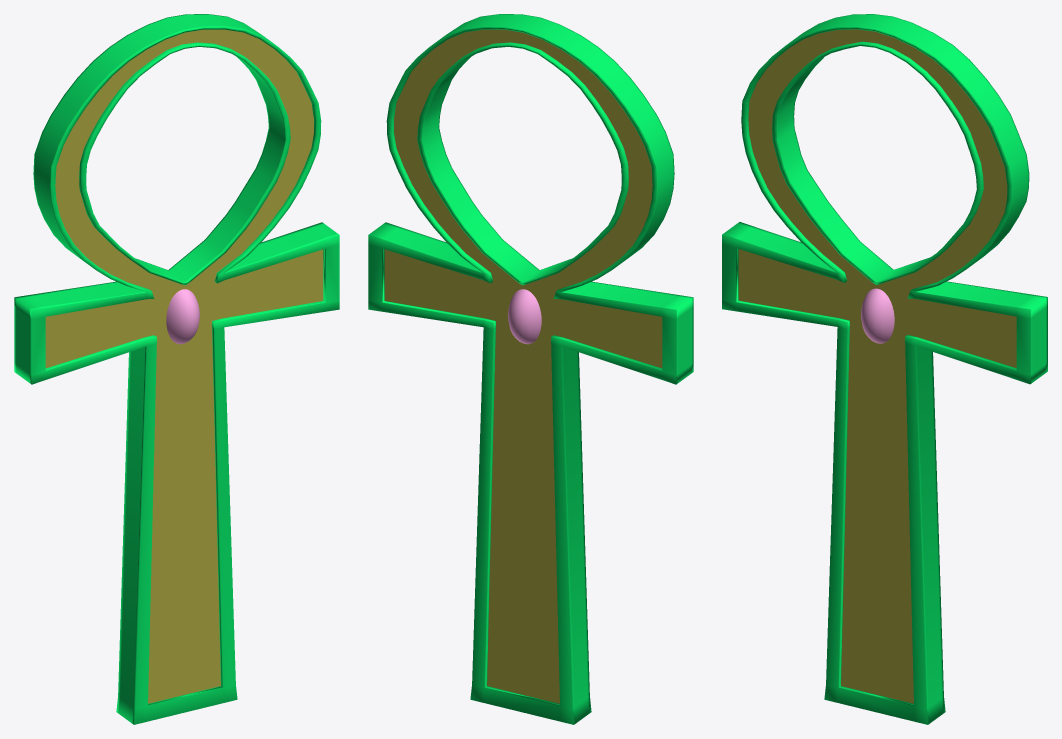
Rendered from AnkhRefined.fbx.
The picture shows the model from 3 angles, left to right: view 1: azimuth 30°, elevation 25°; view 2: azimuth 150°, elevation 25°; view 3: azimuth 330°, elevation 25°; orthographic projection.
Visible parts, largest first — view 1: AnkhMain, Jewel; view 2: AnkhMain, Jewel; view 3: AnkhMain, Jewel.
Boxes of the visible parts, x1,y1,x2,y2 form: AnkhMain: (14,14,339,724); Jewel: (166,289,199,344); AnkhMain: (368,14,693,724); Jewel: (508,289,541,344); AnkhMain: (722,14,1047,724); Jewel: (861,288,894,343).
Bounding box in the file's own units: 6.01 × 12.71 × 1.02.
